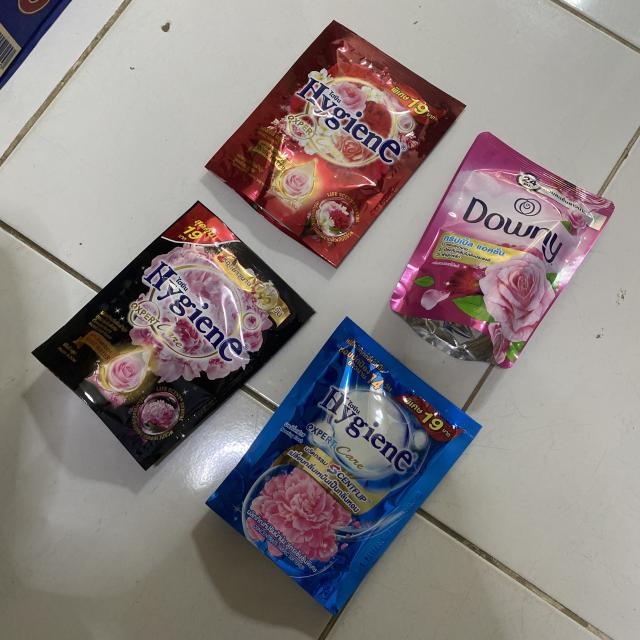plastik: (208, 318, 480, 612), (32, 201, 314, 470), (206, 21, 465, 266), (390, 132, 614, 368)
